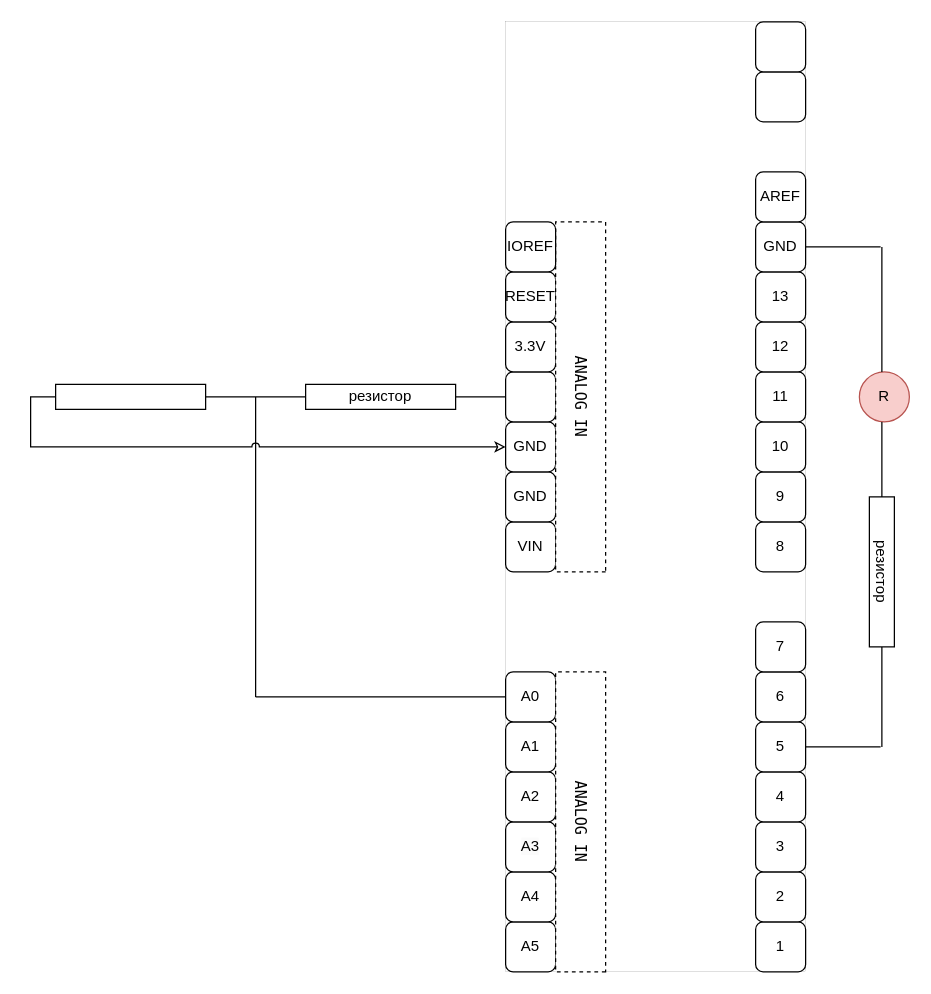
Image size: 931x994. Some labels were removed from this diagram. The centre of each missing label's shape, as x and y in pixels:
5V: point 530,396
ФОТОрезистор: point 130,396
